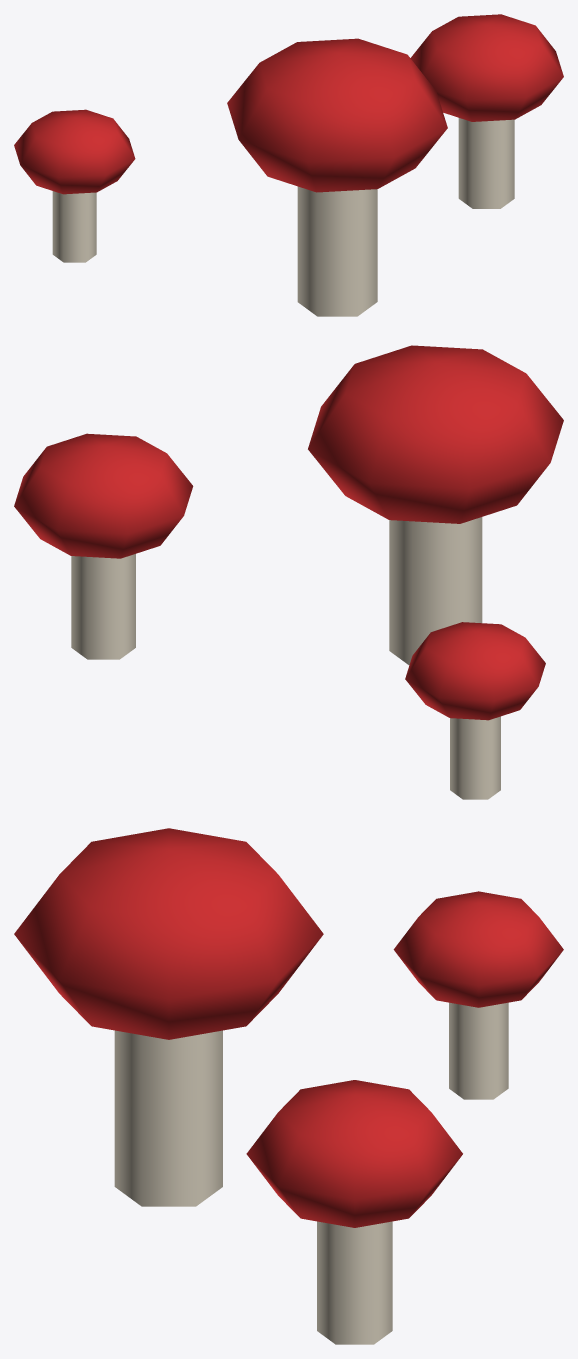
The model's file is mushrooms.glb.
The picture shows the model from 3 angles, top to bottom: view 1: azimuth 30°, elevation 25°; view 2: azimuth 150°, elevation 25°; view 3: azimuth 270°, elevation 25°; orthographic projection. The views are drawn at different scales.
Visible parts, largest first — view 1: mushrooms; view 2: mushrooms; view 3: mushrooms.
Part boxes in pixels (<box>): mushrooms: <box>14,14,563,316</box>; mushrooms: <box>14,345,563,799</box>; mushrooms: <box>14,828,563,1344</box>.
Size of the model in its own units: 0.495 by 0.24 by 0.355.
